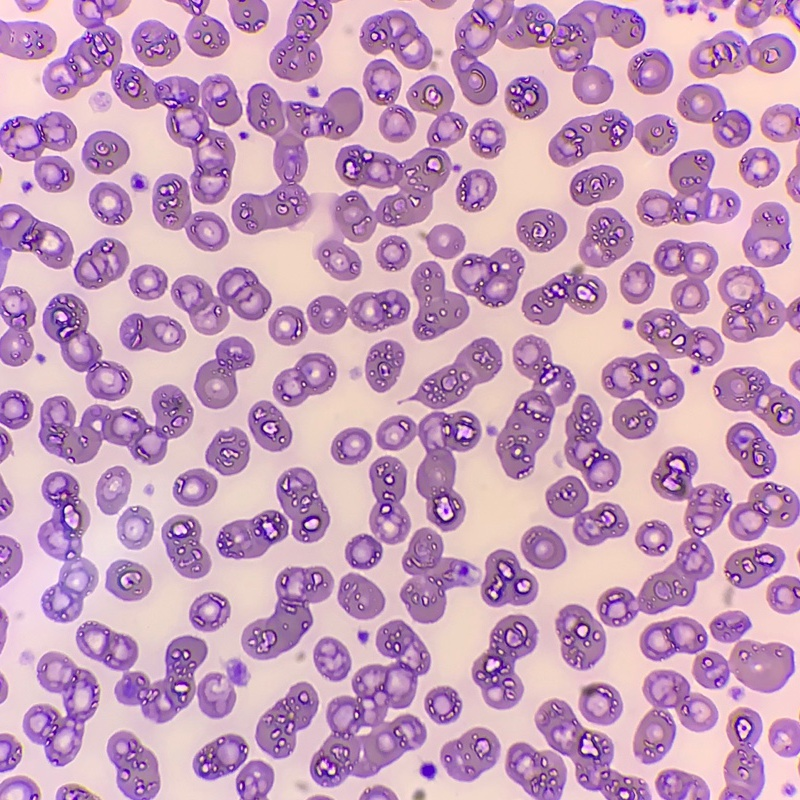RBC: (43, 0, 241, 203), (598, 447, 731, 626), (333, 75, 465, 241), (602, 240, 723, 408), (451, 0, 644, 104), (310, 621, 429, 786), (232, 84, 362, 233), (376, 411, 480, 530), (40, 385, 192, 463), (496, 336, 574, 478), (536, 700, 647, 799), (43, 293, 131, 400), (24, 652, 99, 765), (242, 567, 332, 659), (693, 611, 793, 692), (116, 636, 206, 722), (637, 150, 738, 225), (634, 670, 716, 762), (345, 456, 409, 568), (401, 528, 472, 622), (172, 267, 270, 334), (0, 112, 76, 192), (719, 266, 799, 341), (472, 615, 536, 708), (417, 338, 501, 408), (714, 367, 799, 435), (153, 174, 228, 250), (546, 476, 628, 545), (564, 395, 620, 491), (270, 0, 331, 80), (522, 266, 606, 324), (0, 204, 72, 268), (549, 110, 632, 165), (678, 84, 750, 147), (256, 683, 317, 757), (690, 33, 792, 77), (308, 290, 409, 333), (412, 262, 468, 339), (363, 60, 415, 141), (453, 248, 524, 307), (42, 472, 89, 560), (195, 337, 253, 408), (729, 482, 799, 540), (361, 11, 431, 68), (277, 468, 329, 541), (107, 731, 159, 799), (725, 708, 763, 799), (217, 510, 287, 558), (506, 743, 565, 799), (273, 353, 336, 405), (481, 550, 537, 606), (556, 605, 605, 669), (580, 208, 632, 266), (45, 563, 97, 621), (441, 728, 499, 780), (77, 621, 138, 670), (162, 515, 210, 577), (743, 202, 789, 266), (197, 660, 246, 717), (640, 617, 706, 659), (0, 287, 35, 365), (74, 238, 128, 288), (726, 422, 775, 477), (726, 544, 783, 588), (193, 734, 248, 778), (120, 314, 185, 351), (248, 401, 291, 451), (187, 4, 228, 56), (0, 21, 55, 59), (570, 165, 622, 205), (338, 573, 384, 618), (517, 209, 566, 251), (206, 428, 249, 474), (366, 340, 404, 391), (83, 131, 129, 173), (628, 50, 672, 93), (521, 526, 566, 568), (132, 25, 179, 65), (106, 560, 151, 600), (89, 182, 131, 224), (505, 77, 547, 118), (579, 683, 621, 723), (317, 240, 360, 279), (613, 399, 656, 438), (635, 115, 676, 154), (456, 170, 495, 211), (96, 466, 130, 513), (189, 592, 229, 631), (656, 769, 708, 799), (174, 469, 217, 505), (739, 147, 779, 185), (314, 638, 350, 680), (118, 506, 153, 548), (736, 0, 792, 26), (236, 760, 273, 799), (269, 306, 306, 344), (332, 428, 371, 464), (620, 262, 654, 303), (761, 105, 799, 141), (425, 687, 461, 722), (130, 265, 167, 299), (470, 121, 504, 157), (427, 225, 464, 258), (636, 521, 671, 555), (230, 0, 267, 32), (0, 391, 32, 428), (767, 576, 799, 613), (377, 236, 410, 270), (769, 719, 799, 756), (0, 535, 21, 580), (0, 734, 21, 770), (361, 785, 395, 799), (66, 784, 95, 799), (787, 166, 799, 201), (0, 483, 12, 510), (131, 175, 147, 191), (0, 429, 11, 451), (790, 362, 799, 386), (39, 525, 51, 543), (426, 0, 452, 8), (0, 610, 6, 643), (420, 762, 435, 775), (704, 0, 731, 7), (17, 0, 33, 11), (0, 683, 7, 700), (412, 791, 424, 799), (0, 784, 5, 794), (315, 795, 323, 799)
